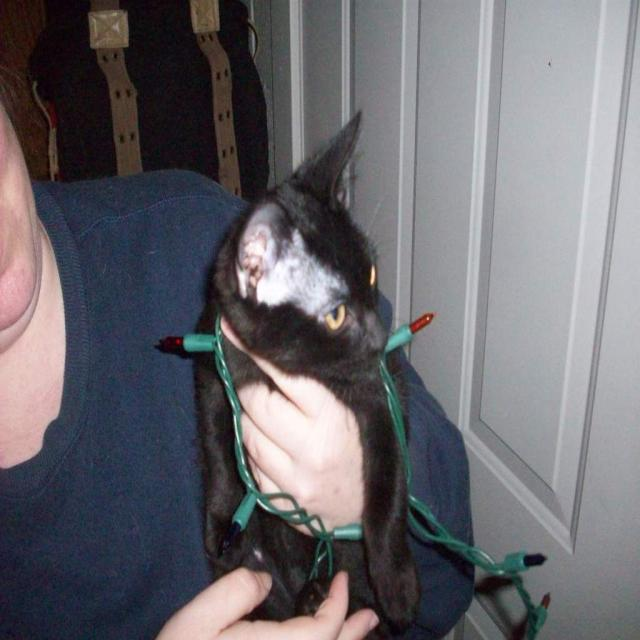Cat: (183, 102, 425, 621)
